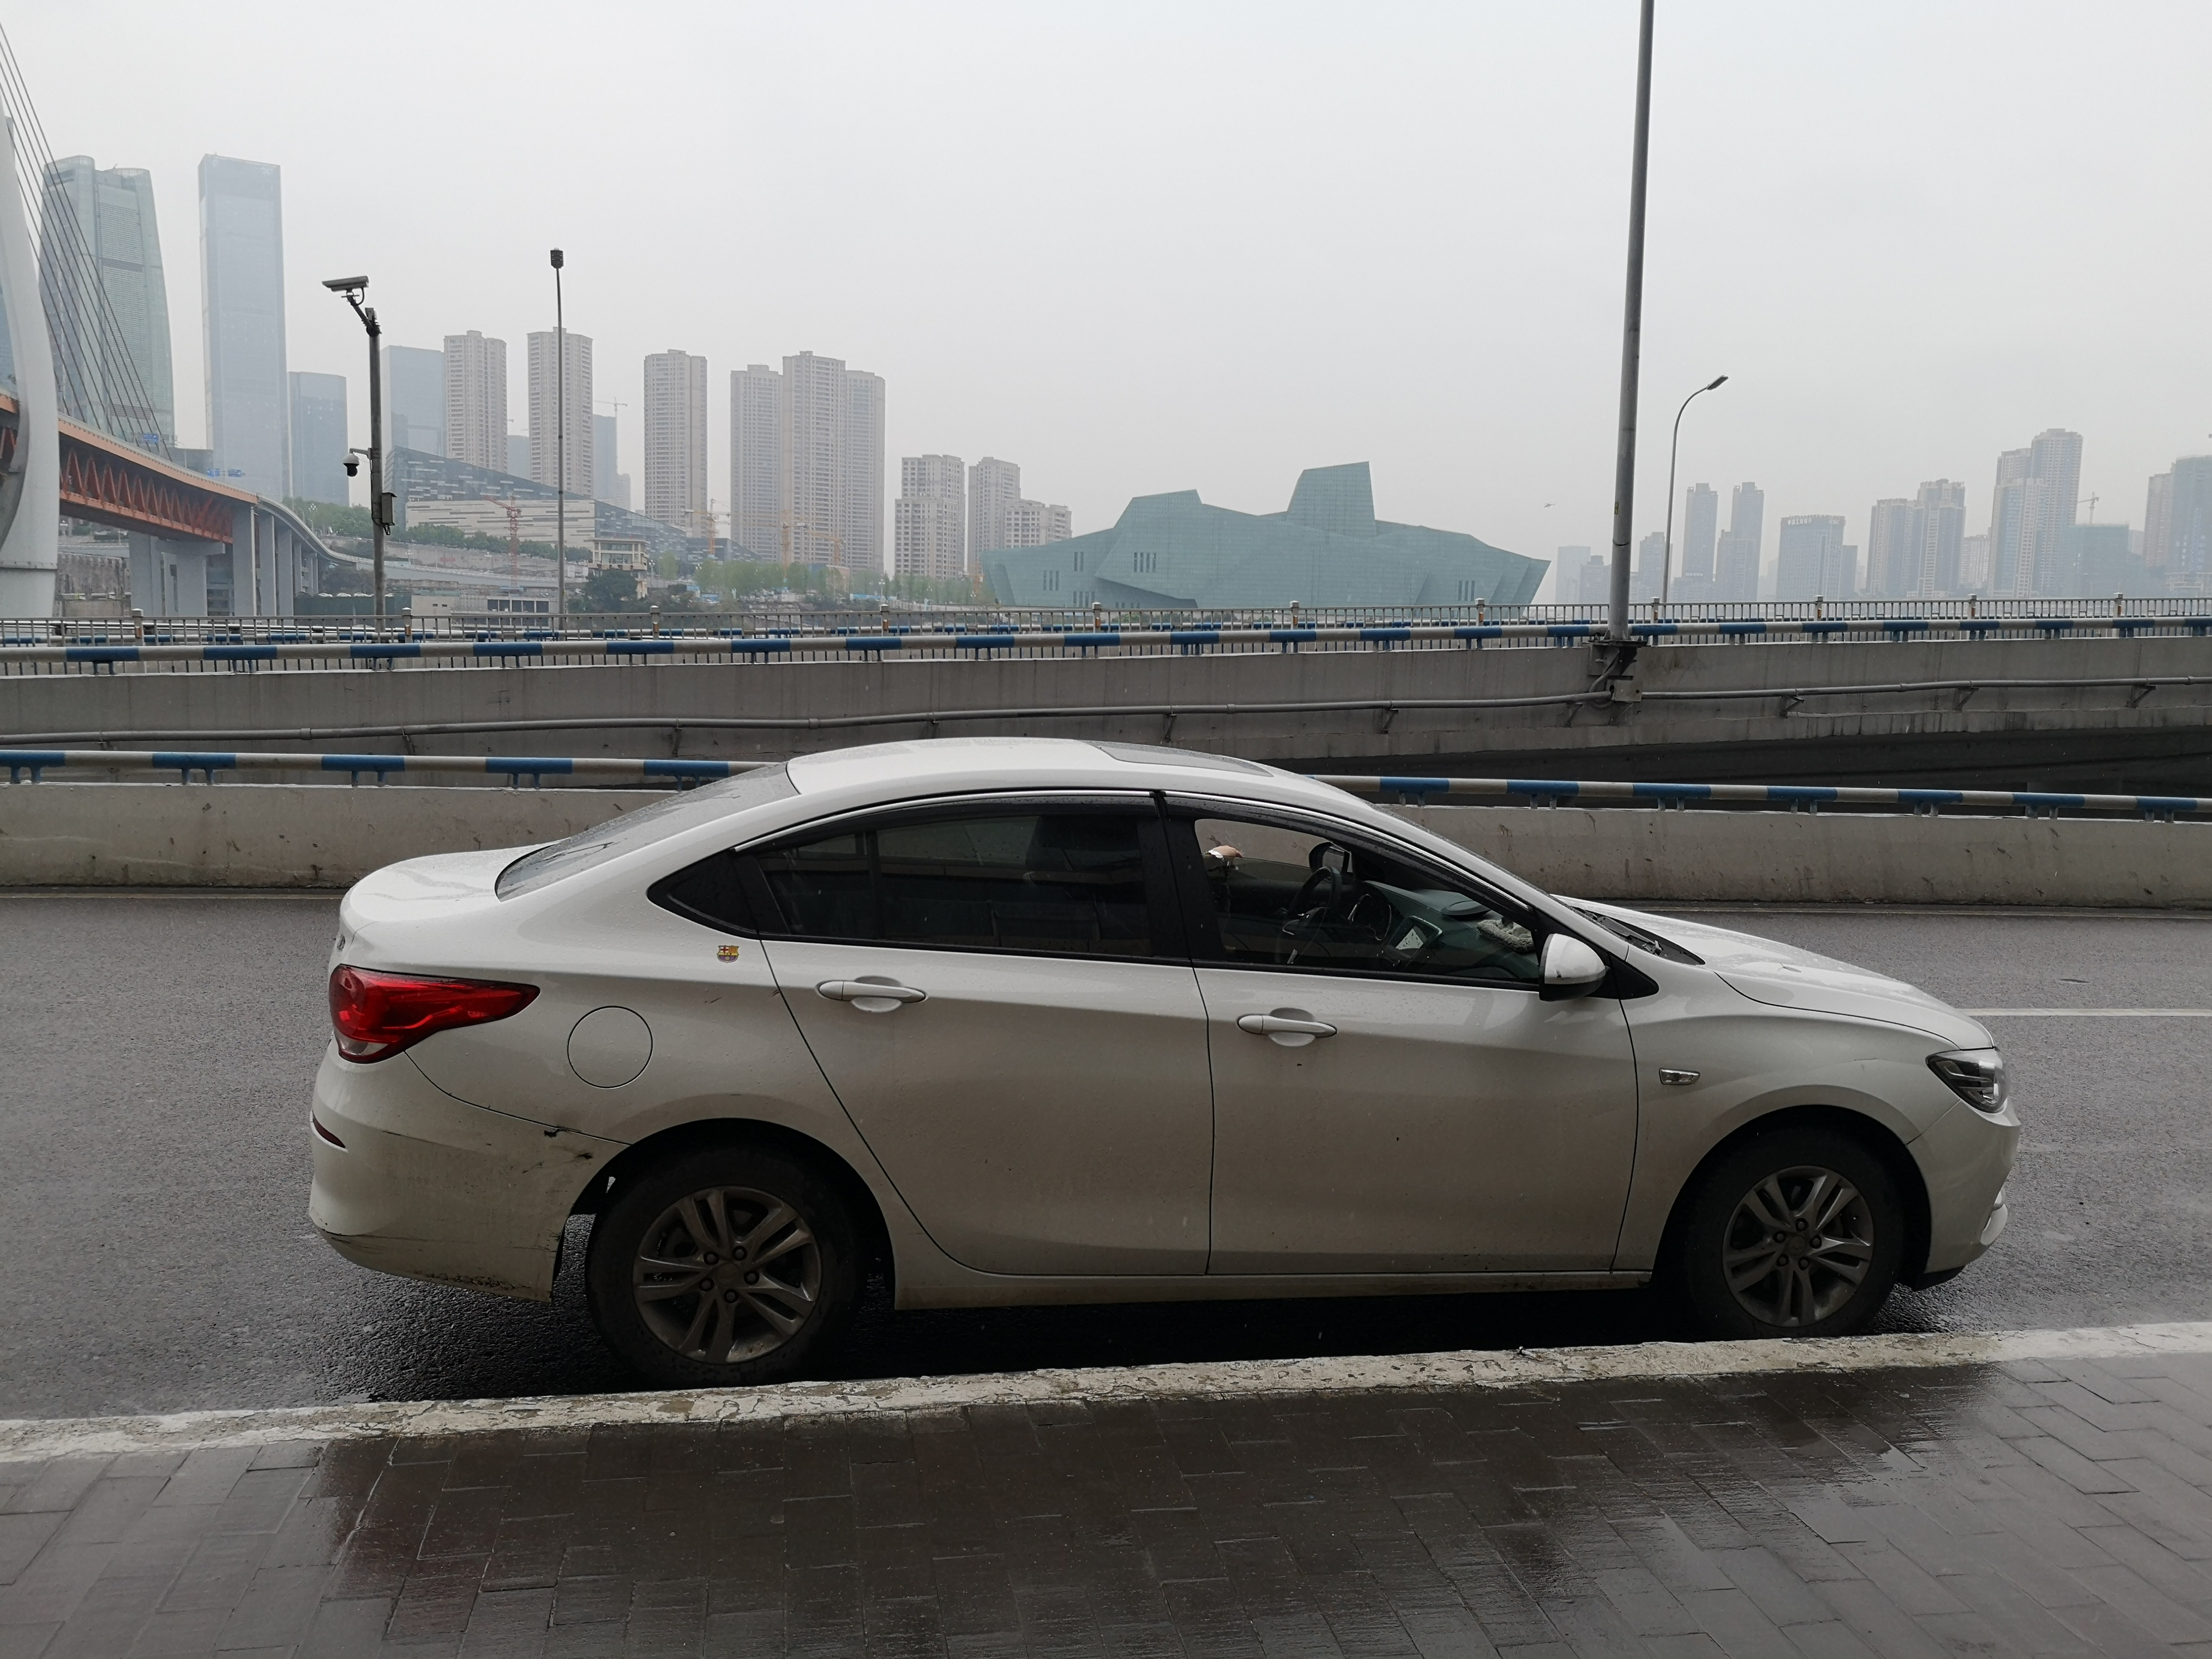car: (150, 634, 2134, 1415)
